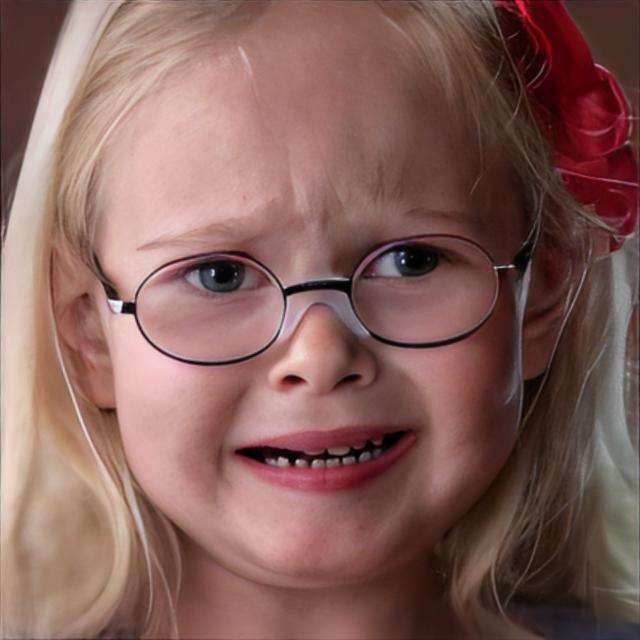sad: (95, 0, 528, 593)
